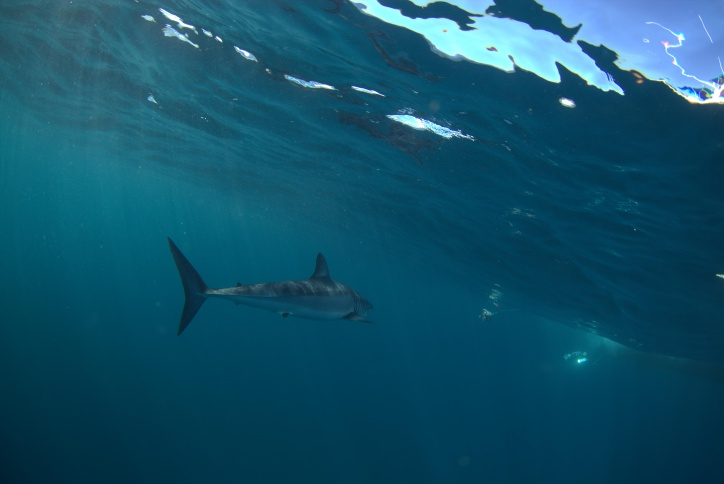Mako: (160, 236, 390, 344)
